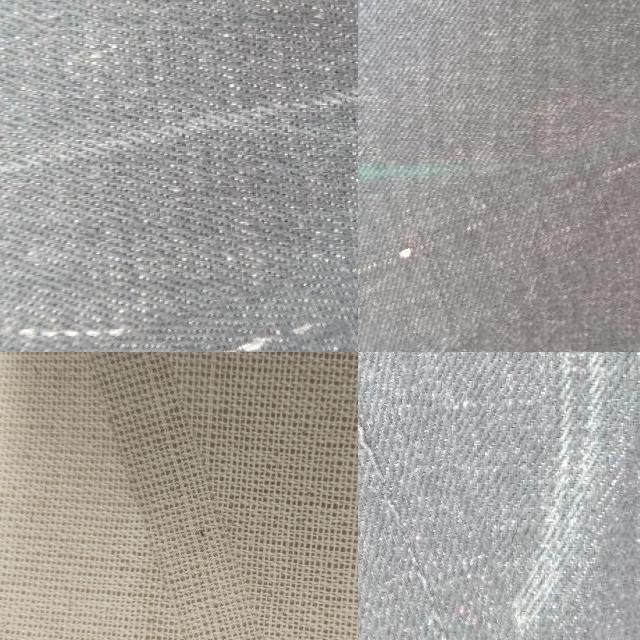stains: (358, 135, 640, 352), (107, 352, 283, 640), (0, 233, 358, 352), (358, 352, 488, 640)
